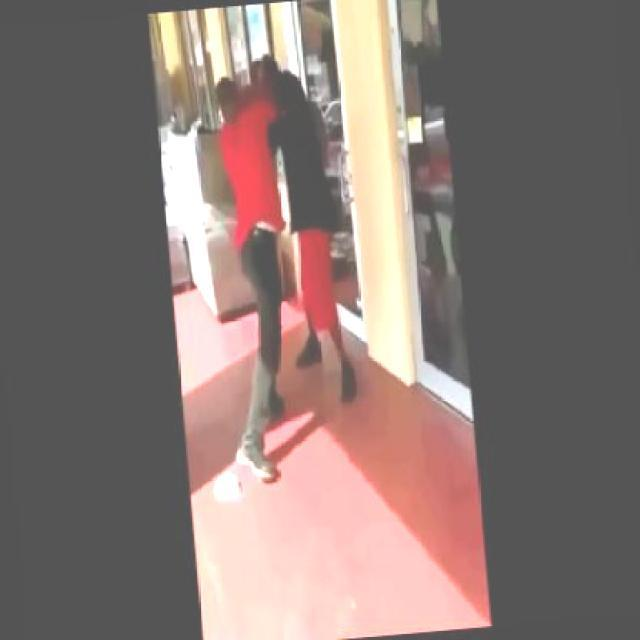fight: (214, 50, 360, 419)
